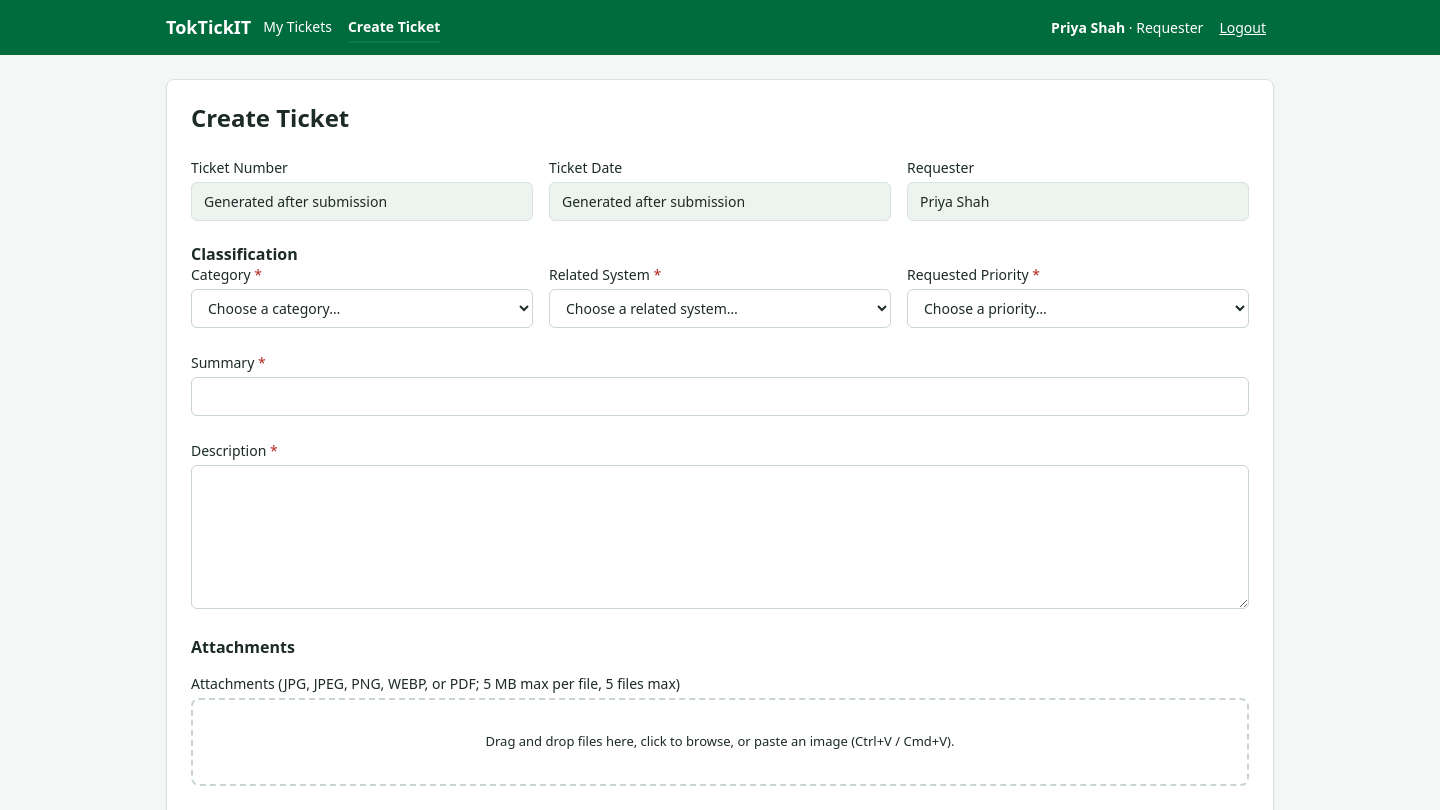
UI-07 (AC-08): server failure preserves entered values › shows a safe error message and keeps the form values, creating nothing
Select "Hardware" in the dropdown labelled "Category *" at {"x": 362, "y": 308}, box [191, 289, 533, 328]
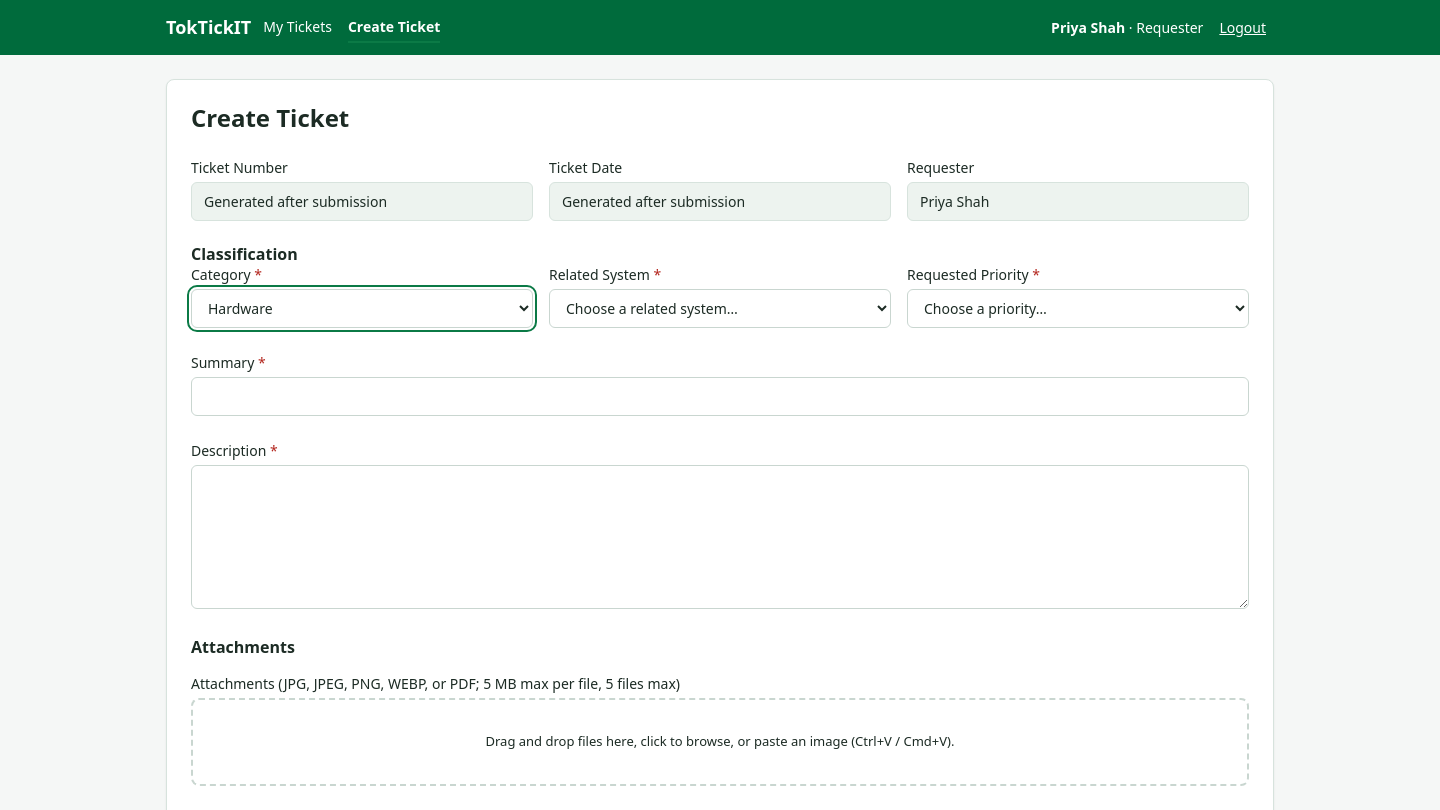
Select "Corporate Laptop" in the dropdown labelled "Related System *" at {"x": 720, "y": 308}, box [549, 289, 891, 328]
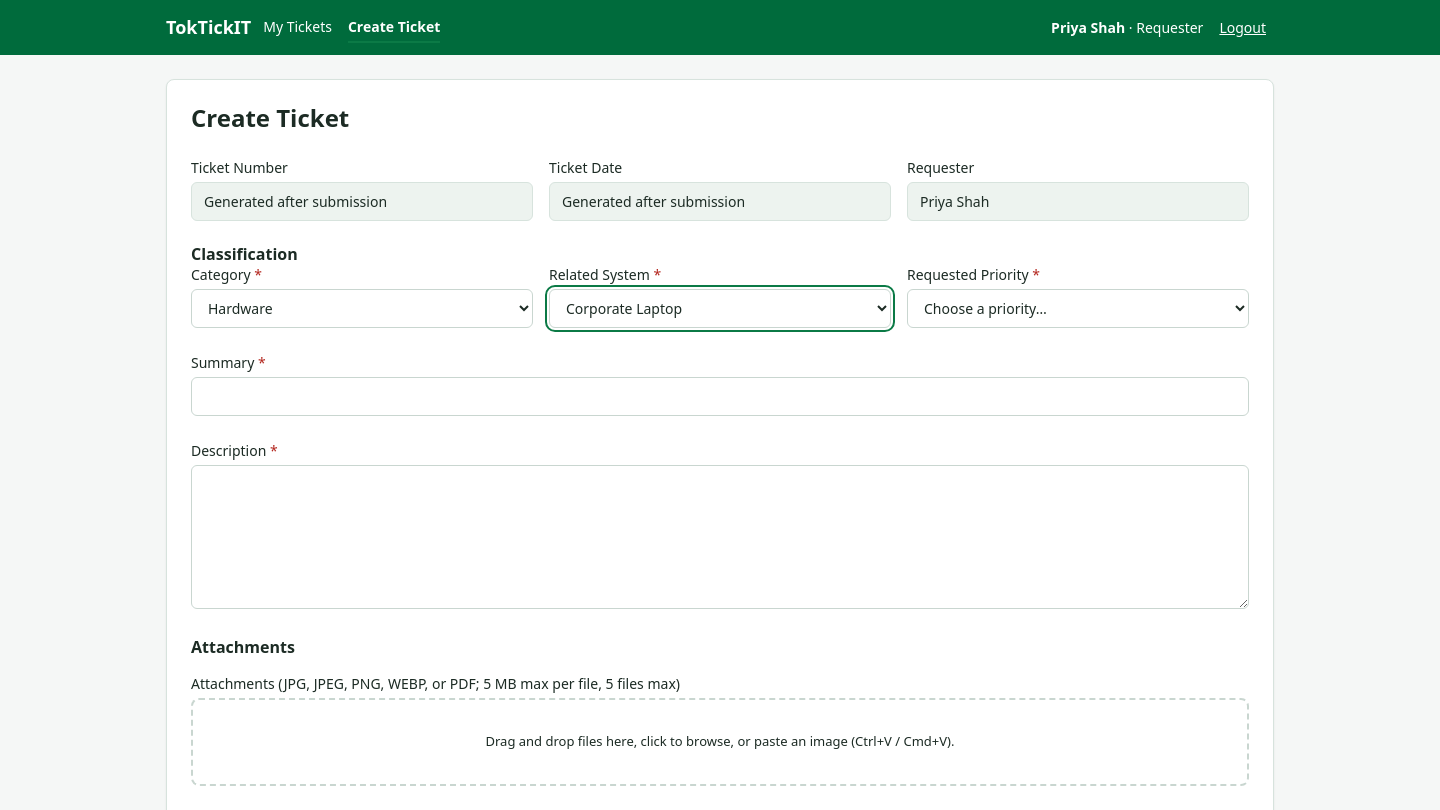
Select "Medium" in the dropdown labelled "Requested Priority *" at {"x": 1078, "y": 308}, box [907, 289, 1249, 328]
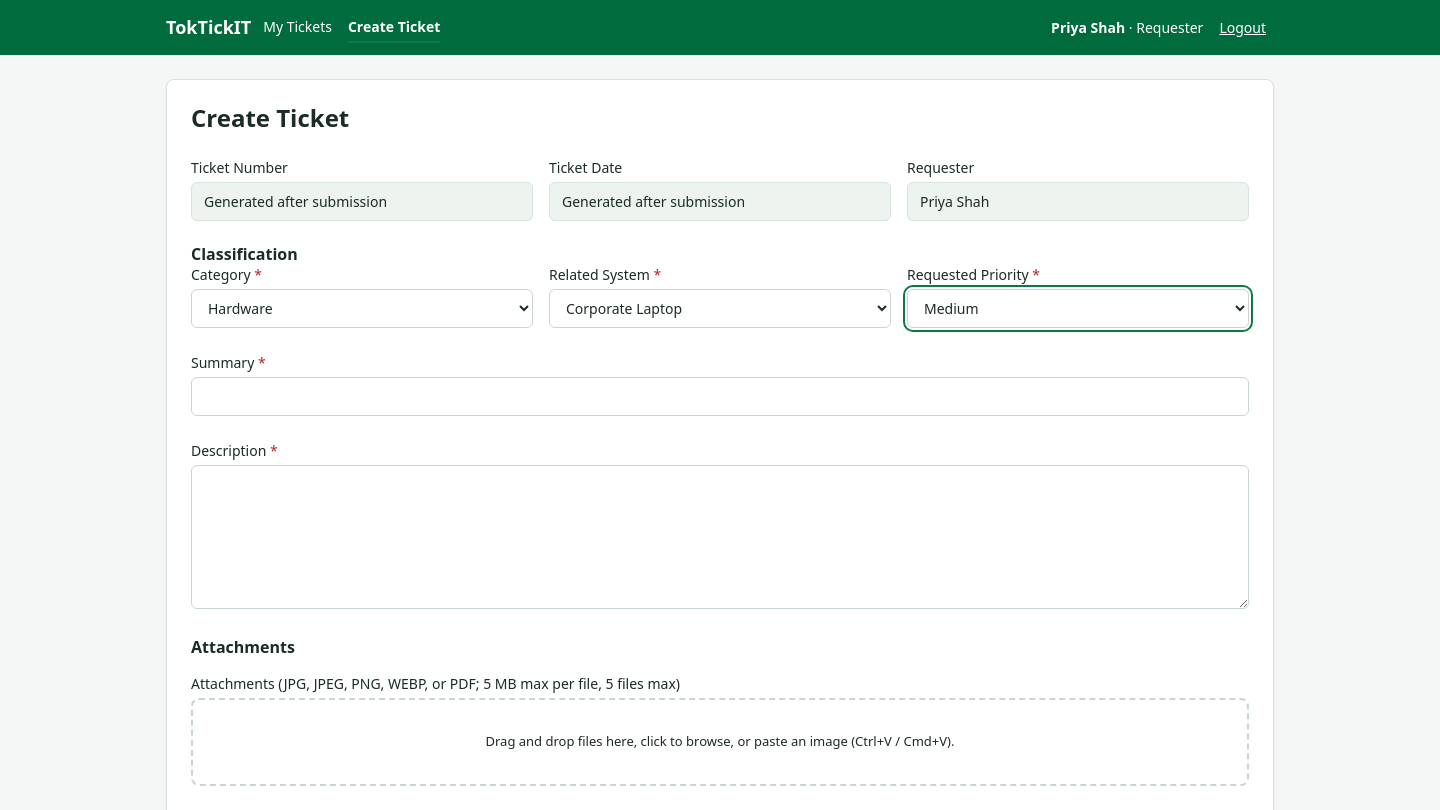
Type "Laptop battery drains quickly" into the field labelled "Summary *" at {"x": 720, "y": 396}, box [191, 377, 1249, 416]
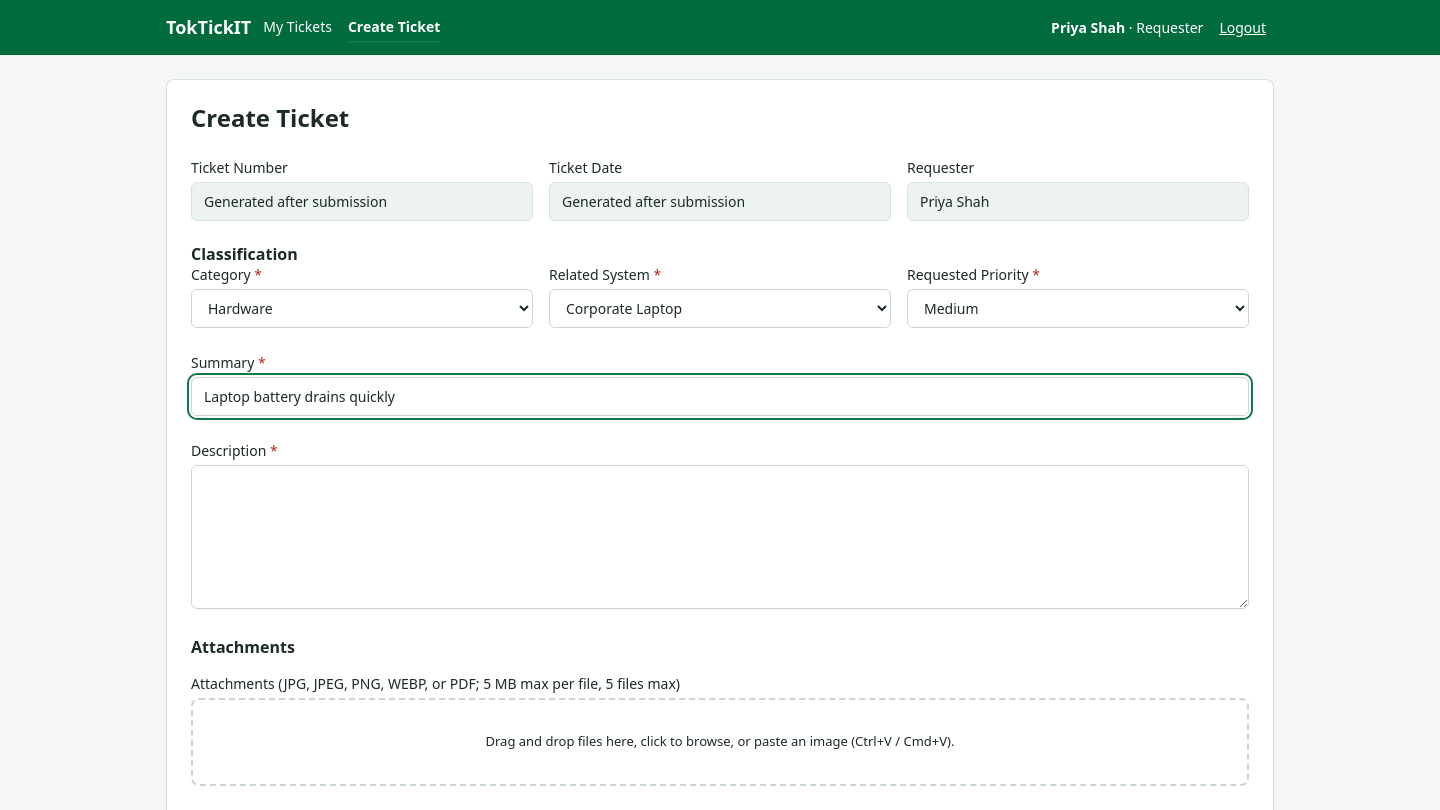
Type "My laptop battery drains much faster than usual now." into the text box labelled "Description *" at {"x": 720, "y": 537}, box [191, 465, 1249, 609]
(page scrolled)
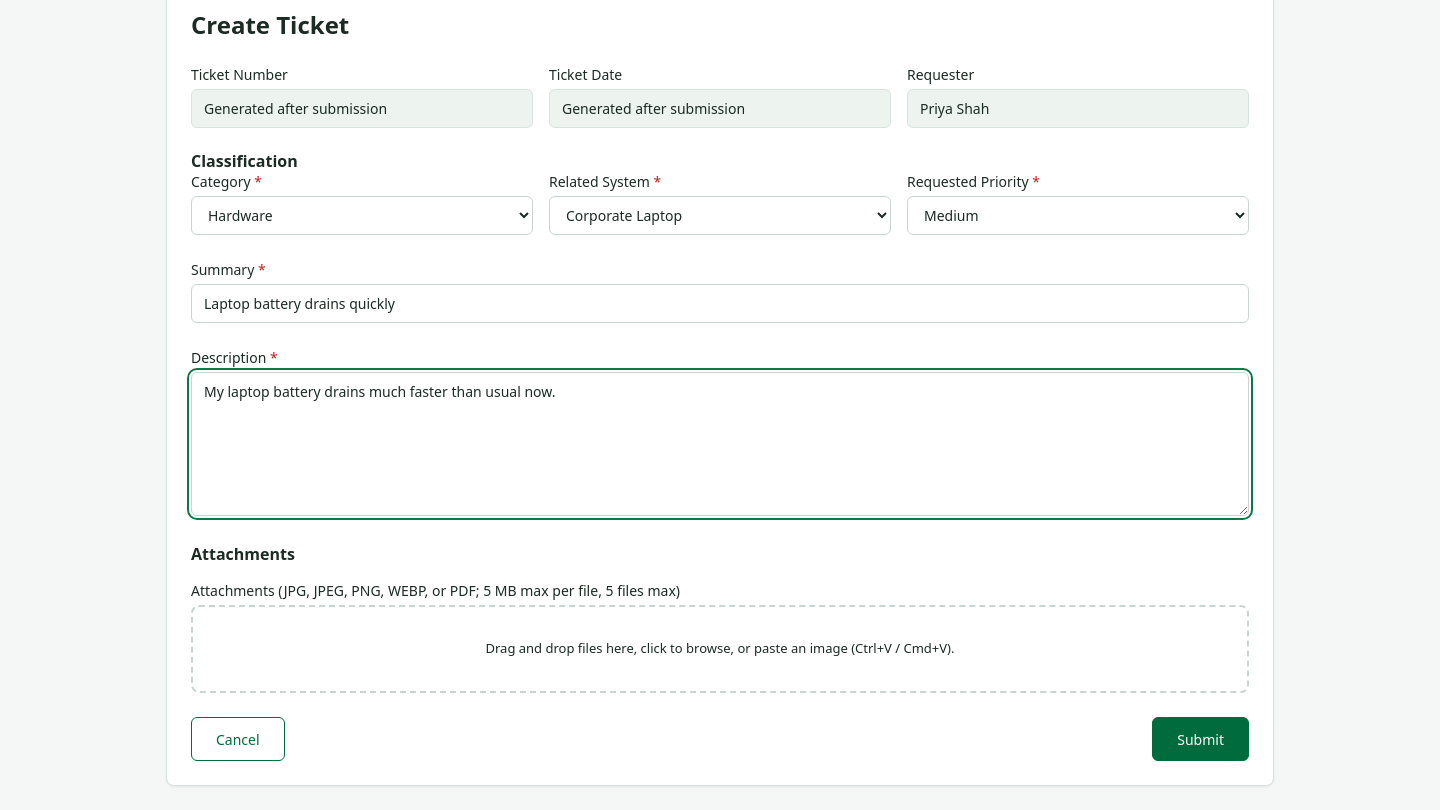
Click the button "Submit" at {"x": 1201, "y": 739}, box [1152, 717, 1249, 761]
(page scrolled)
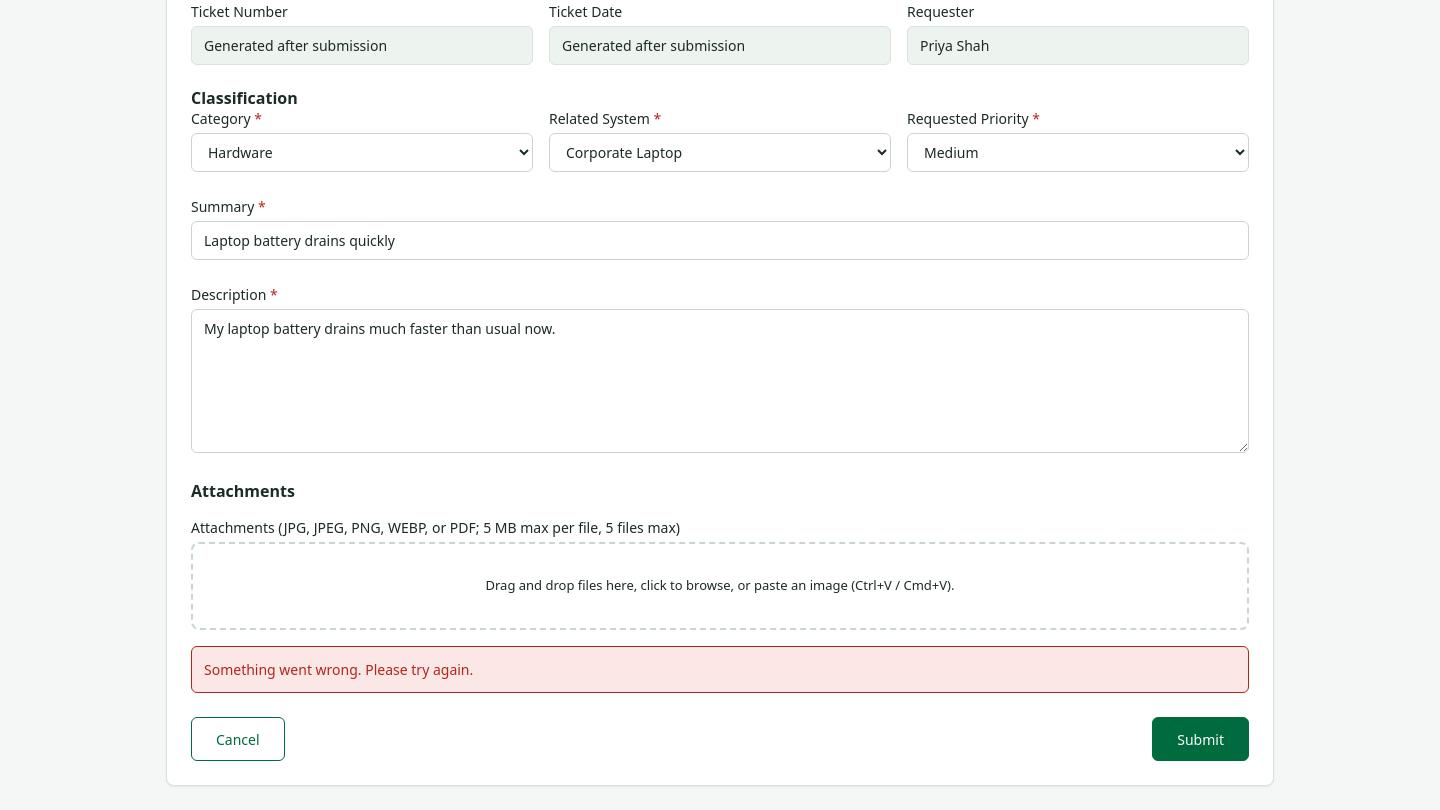
Now the message "Something went wrong. Please try again." is shown, box [191, 646, 1249, 693]
